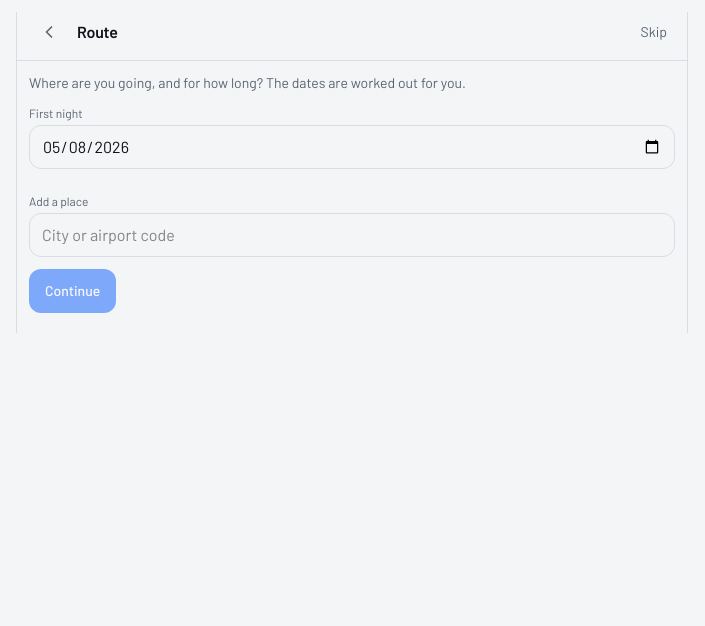
Scenario: the route sketch › turns nights into dates and cascades a change through later stops
Type "Rome" into the field labelled "Add a place" at (352, 235), box [29,213,675,257]
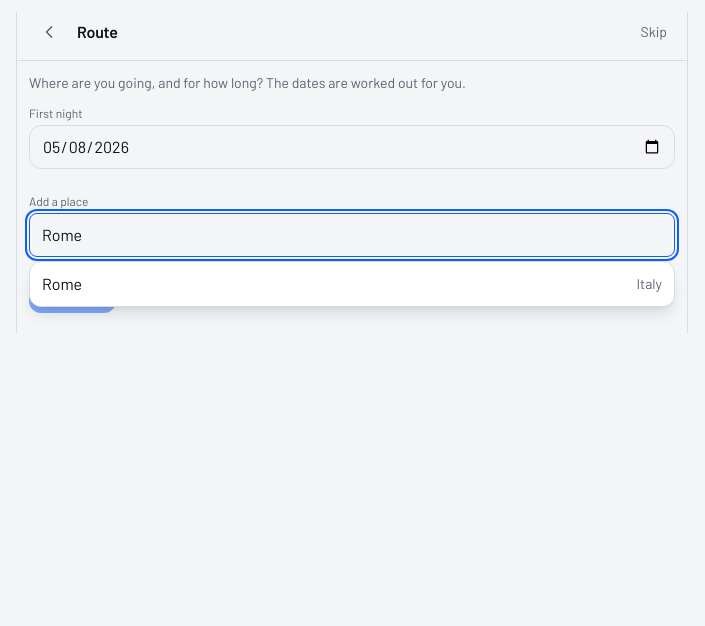
Click the button "Rome Italy" at (62, 284), box [30,262,674,306]
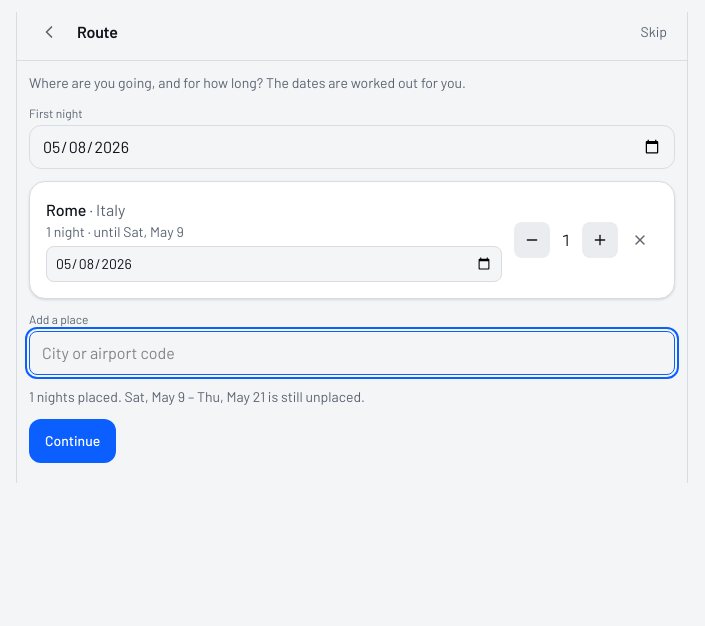
Type "Barcelona" into the field labelled "Add a place" at (352, 353), box [29,331,675,375]
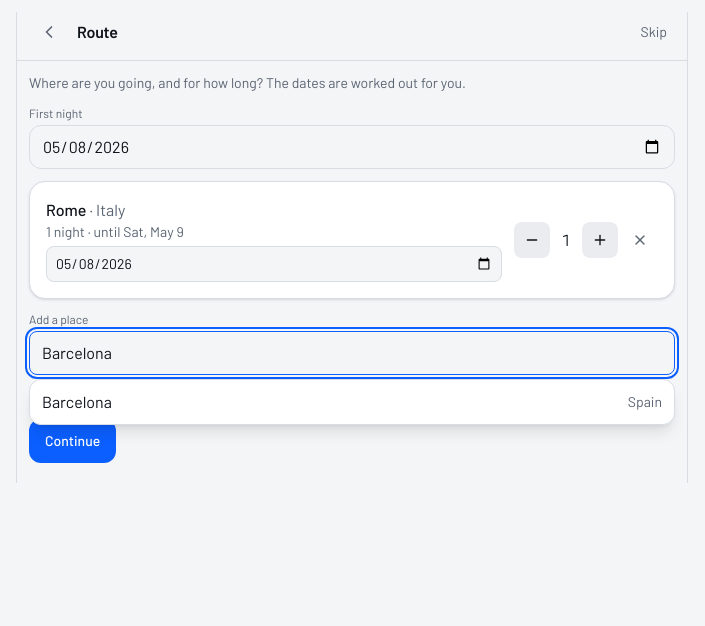
Click the button "Barcelona Spain" at (77, 402), box [30,380,674,424]
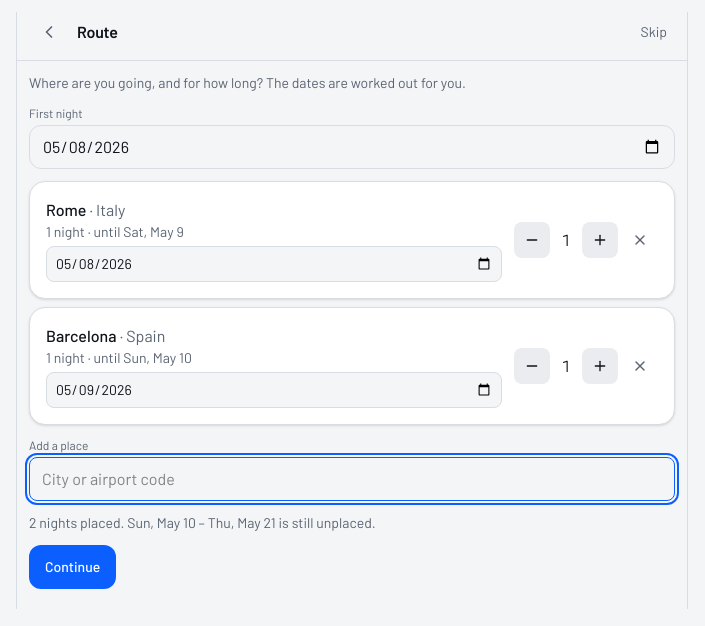
Expected: the date field named "Arrive in Rome" below "Sat, May 9" holds "2026-05-08", [46,246,502,282]
Expected: the date field named "Arrive in Barcelona" below "Barcelona" holds "2026-05-09", [46,372,502,408]
Click the button named "One night more in Rome" at (600, 240), box [582,222,618,258]
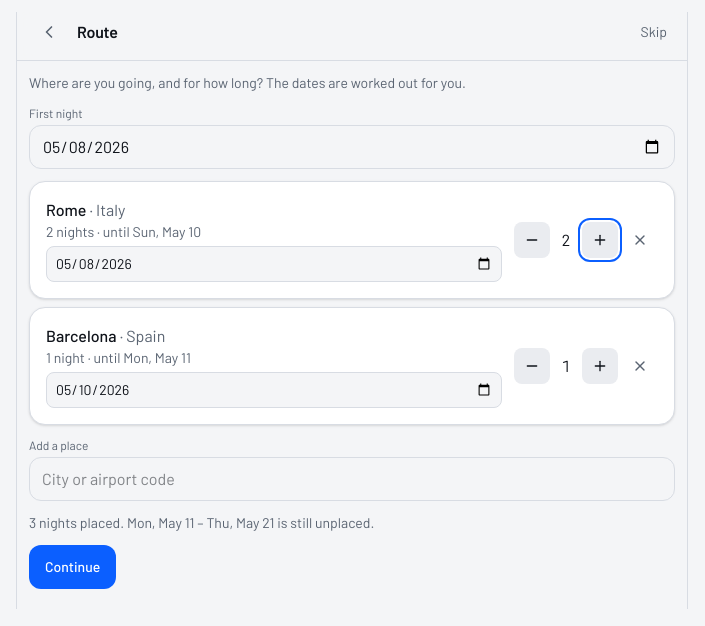
Expected: the date field named "Arrive in Barcelona" below "Barcelona" holds "2026-05-10", [46,372,502,408]
